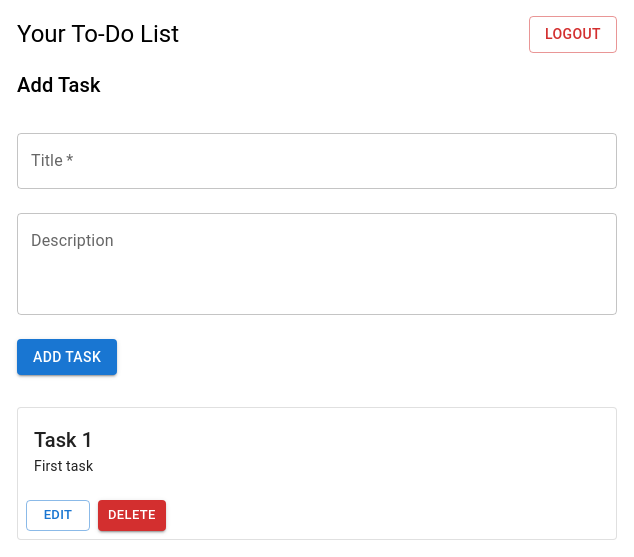
Test: ToDoListPage › deletes a task when "Delete" button is clicked
This screenshot has width=634, height=557.
Expected: the heading "Task 1" is shown, [34, 428, 93, 452]
// Click delete
Click the button "Delete": click(132, 515) [98, 500, 166, 531]
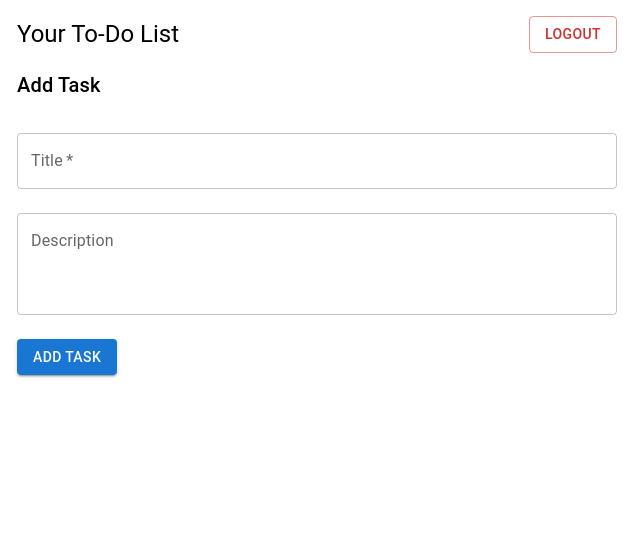
Now the heading "Task 1" is gone
